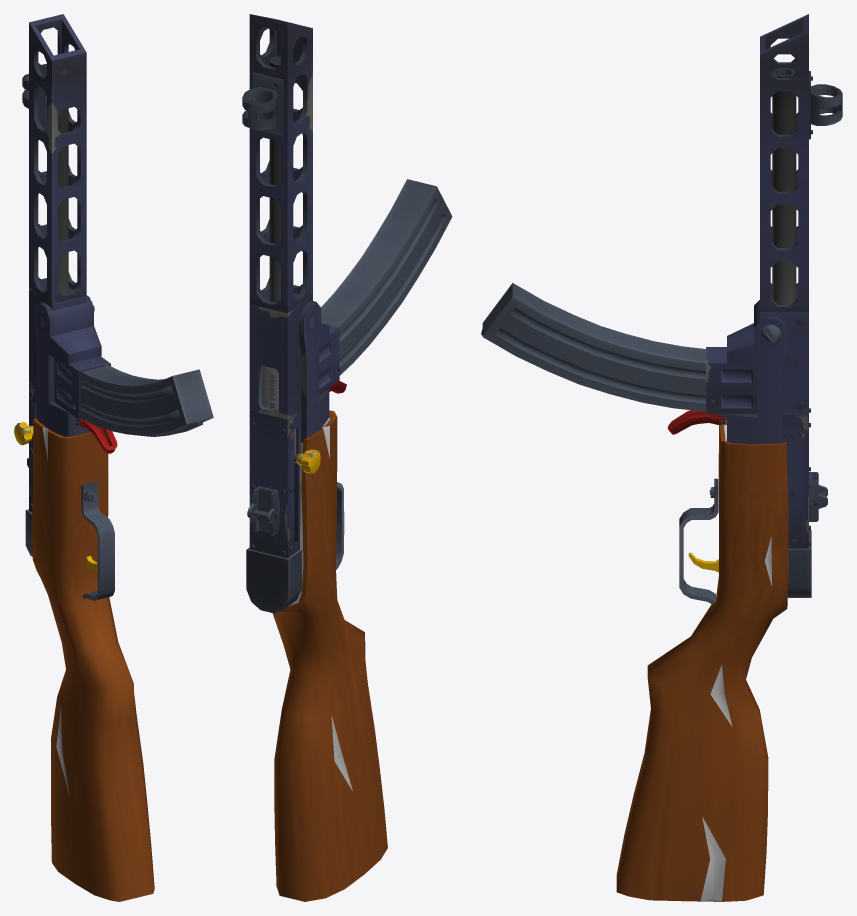
Rendered from PPSh_Preview.fbx.
The picture shows the model from 3 angles, left to right: view 1: azimuth 30°, elevation 25°; view 2: azimuth 150°, elevation 25°; view 3: azimuth 270°, elevation 25°; orthographic projection. The views are drawn at different scales.
Parts seen in each view (by area): view 1: PPSh_Preview; view 2: PPSh_Preview; view 3: PPSh_Preview.
Part boxes in pixels (x1,y1,x2,y2): PPSh_Preview: [14, 14, 213, 901]; PPSh_Preview: [242, 14, 452, 901]; PPSh_Preview: [481, 14, 842, 901].
Size of the model in its own units: 0.3595 by 4.32 by 1.63.
